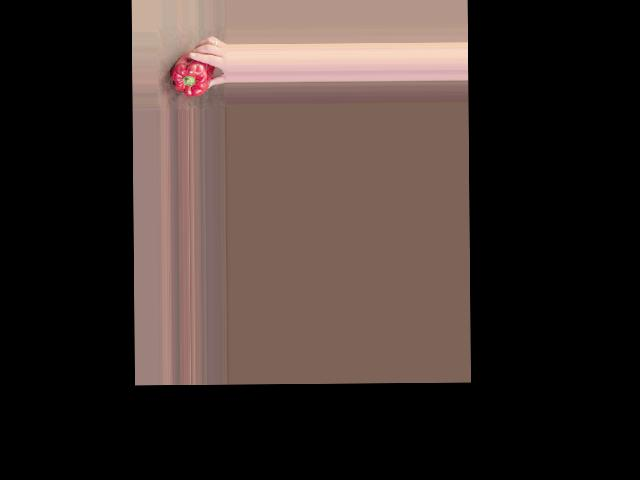bell_pepper: (170, 53, 212, 98)
